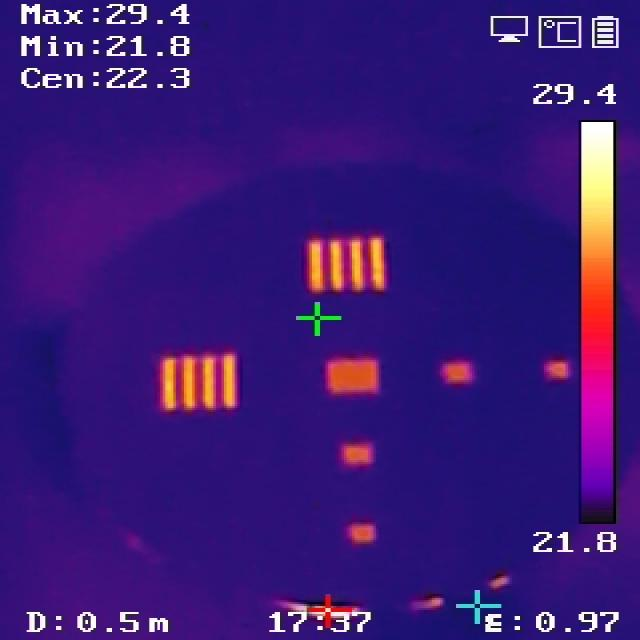Distinguishable 4-bar target: (152, 353, 248, 412), (304, 235, 388, 291)
Indistinguishable 4-bar target: (333, 356, 376, 393), (447, 360, 476, 383), (545, 362, 575, 380), (348, 443, 373, 463), (354, 524, 378, 538)
